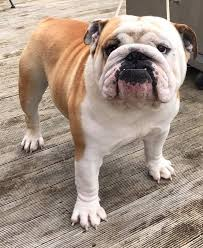Bulldog: (13, 9, 197, 232)
